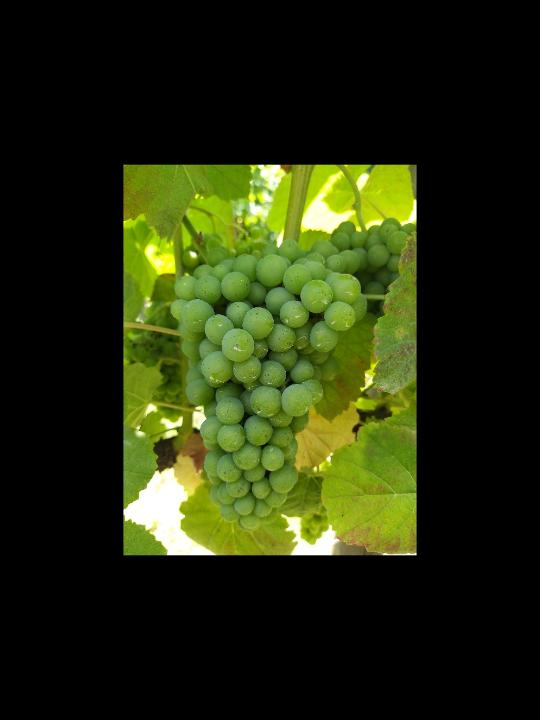grape: (168, 253, 369, 532)
